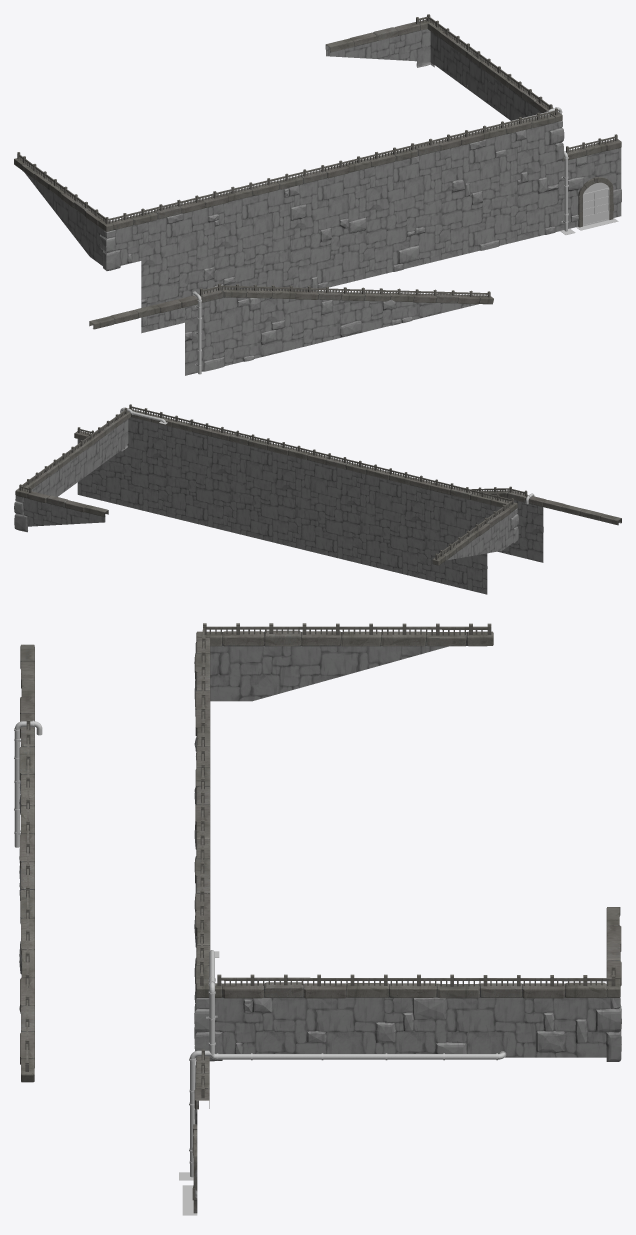
File: SM_ENV_KNVLLG_Wall_08.mo.fbx
3 views of the same model, one above another, from view 1: azimuth 30°, elevation 25°; view 2: azimuth 150°, elevation 25°; view 3: azimuth 270°, elevation 25° (orthographic). The views are drawn at different scales.
Parts seen in each view (by area): view 1: SM_ENV_KNVLLG_Wall_08.mo; view 2: SM_ENV_KNVLLG_Wall_08.mo; view 3: SM_ENV_KNVLLG_Wall_08.mo.
Boxes of the visible parts, x1,y1,x2,y2 form: SM_ENV_KNVLLG_Wall_08.mo: (14,14,621,375); SM_ENV_KNVLLG_Wall_08.mo: (14,404,621,594); SM_ENV_KNVLLG_Wall_08.mo: (14,623,621,1215).
Bounding box in the file's own units: 58.9 × 12.09 × 33.16.
